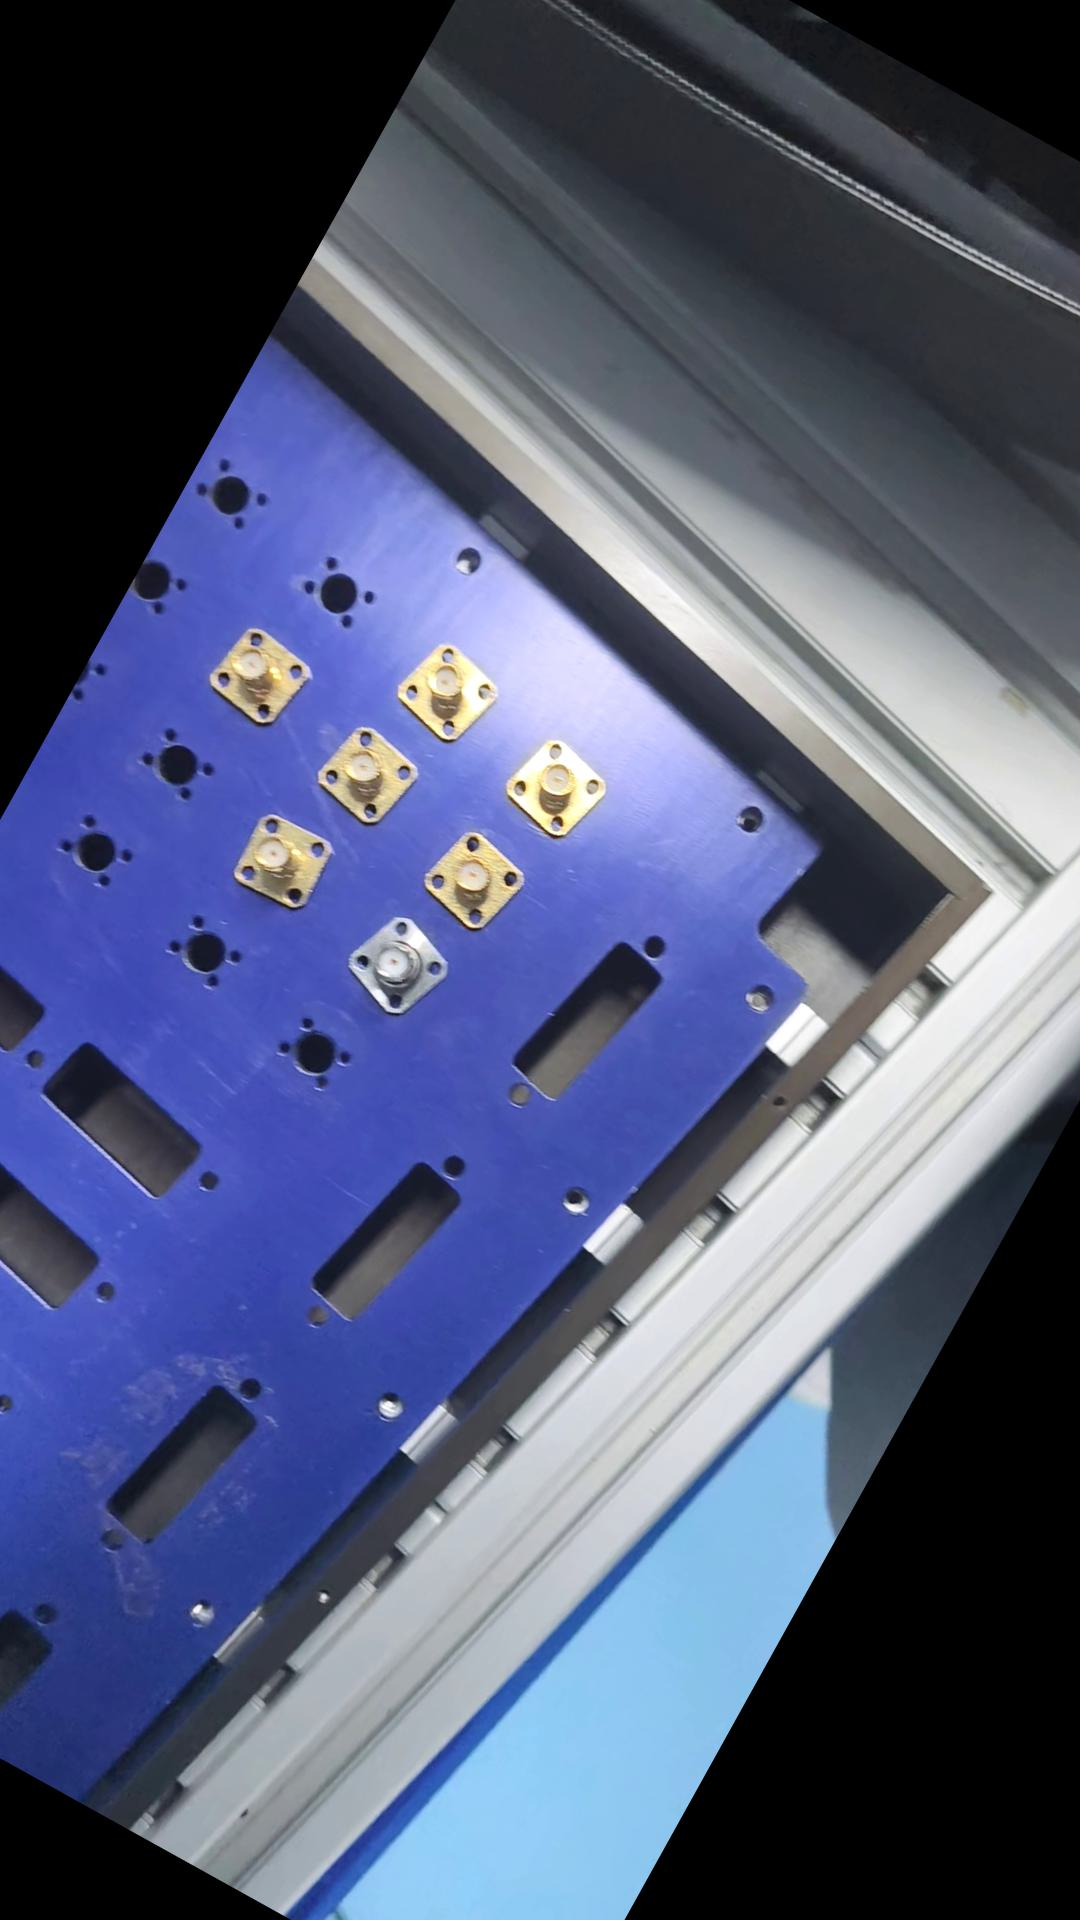SMA: (485, 723, 618, 851), (216, 795, 344, 924), (301, 709, 426, 835), (334, 905, 459, 1030), (409, 822, 535, 943), (382, 629, 505, 752), (198, 617, 318, 735)
